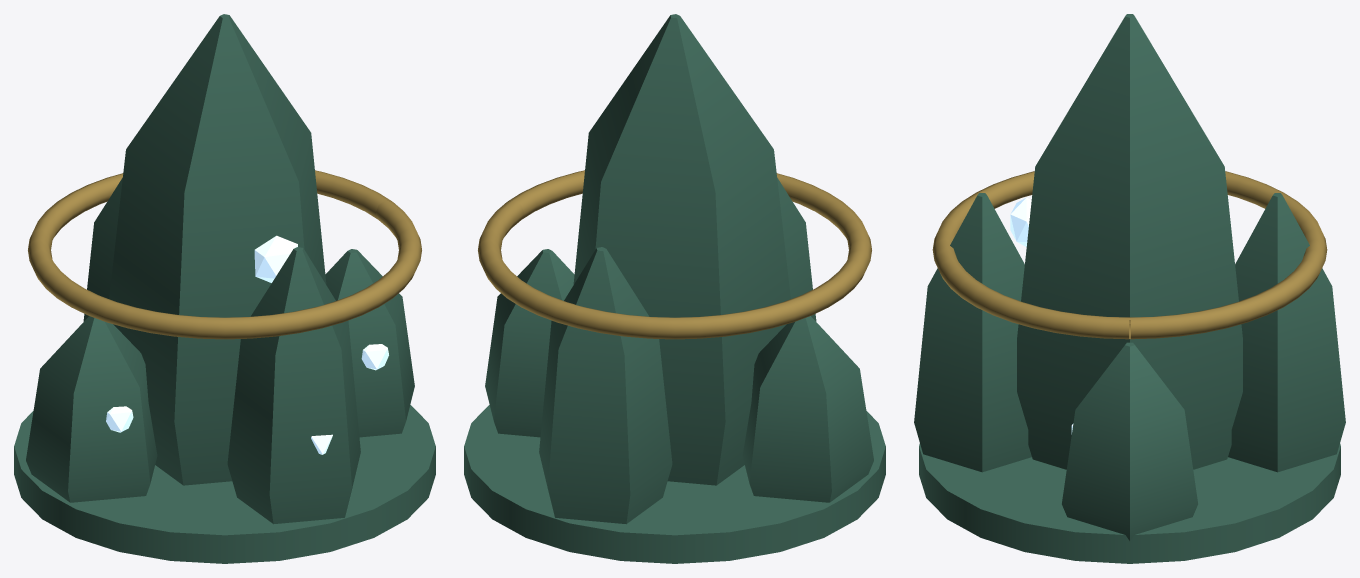
3 renders of one model, left to right at view 1: azimuth 30°, elevation 25°; view 2: azimuth 150°, elevation 25°; view 3: azimuth 270°, elevation 25°, orthographic.
Visible parts, largest first — view 1: Faceted crystal tower, Foundation drum, Faceted crystal tower.004, Faceted crystal tower.003, Crystal conductive halo, Faceted crystal tower.001, Faceted crystal tower.002, Central luminous node, Crystal luminous node.002, Crystal luminous node; view 2: Faceted crystal tower, Foundation drum, Faceted crystal tower.002, Faceted crystal tower.003, Crystal conductive halo, Faceted crystal tower.001, Faceted crystal tower.004; view 3: Faceted crystal tower, Foundation drum, Faceted crystal tower.002, Faceted crystal tower.004, Faceted crystal tower.001, Crystal conductive halo, Central luminous node.
Boxes of the visible parts, x1,y1,x2,y2 form: Faceted crystal tower: (109, 14, 326, 485); Foundation drum: (14, 405, 435, 563); Faceted crystal tower.004: (227, 247, 360, 524); Faceted crystal tower.003: (26, 316, 157, 502); Crystal conductive halo: (28, 170, 421, 339); Faceted crystal tower.001: (325, 249, 414, 437); Faceted crystal tower.002: (83, 177, 122, 321); Central luminous node: (254, 235, 297, 282); Crystal luminous node.002: (106, 406, 133, 432); Crystal luminous node: (361, 344, 388, 370); Faceted crystal tower: (573, 14, 790, 485); Foundation drum: (464, 405, 885, 563); Faceted crystal tower.002: (539, 247, 672, 524); Faceted crystal tower.003: (742, 316, 873, 502); Crystal conductive halo: (478, 170, 871, 339); Faceted crystal tower.001: (485, 249, 574, 437); Faceted crystal tower.004: (777, 177, 816, 321); Faceted crystal tower: (1017, 14, 1242, 469); Foundation drum: (919, 443, 1340, 563); Faceted crystal tower.002: (1228, 193, 1345, 472); Faceted crystal tower.004: (914, 193, 1031, 472); Faceted crystal tower.001: (1062, 342, 1197, 540); Crystal conductive halo: (932, 171, 1327, 339); Central luminous node: (1010, 197, 1031, 246).
Bounding box in the file's own units: 2.04 × 2.4 × 2.05.
